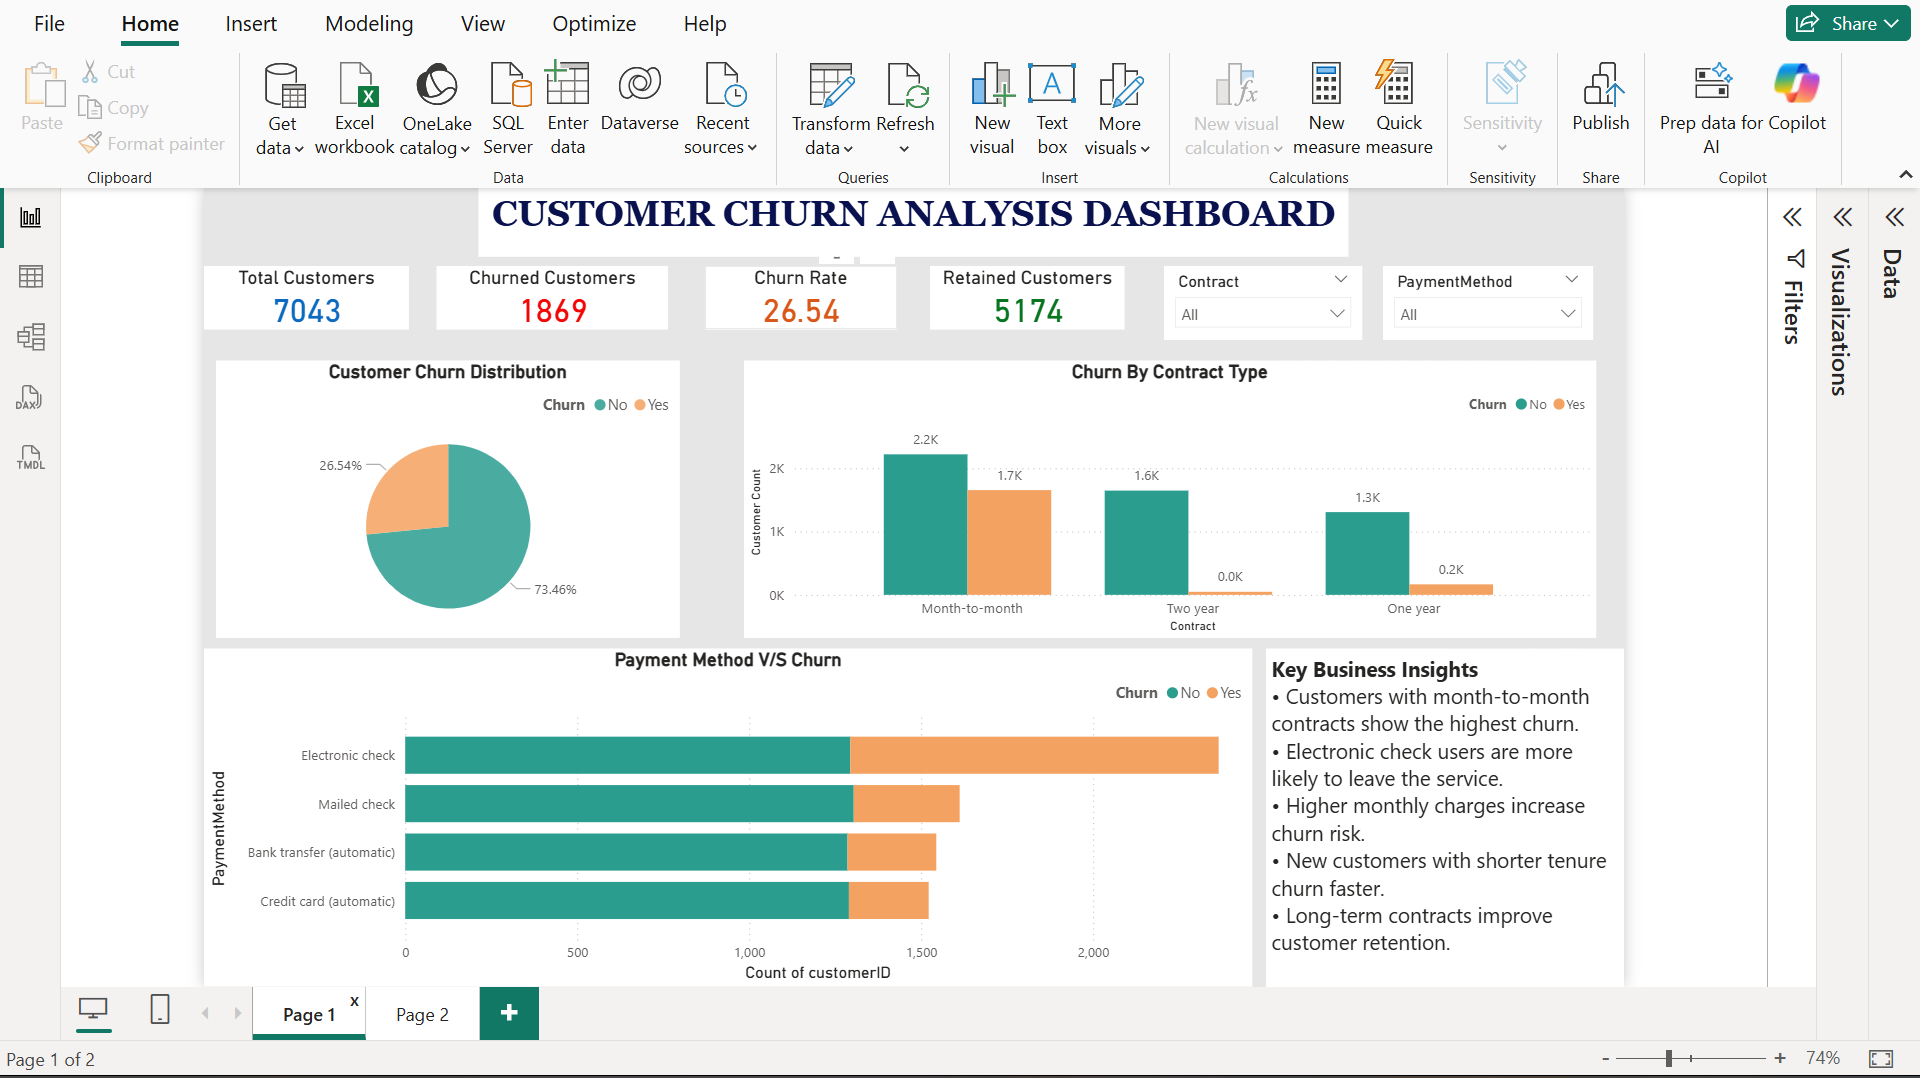

This screenshot's page, from the dashboard's own definition file:
{"tool":"powerbi","page":{"name":"Page 1","canvas":[1280,720],"ordinal":0},"visuals":[{"type":"card","title":"Total Customers","fields":{"Values":["cleaned_customer_churn.TOTAL CUST"]},"box":[0,69.7,184.7,57.5],"z":0},{"type":"card","title":"Churn Rate","fields":{"Values":["cleaned_customer_churn.Churn Rate"]},"box":[451.2,69.7,172.6,57.5],"z":1000},{"type":"card","title":"Churned Customers","fields":{"Values":["cleaned_customer_churn.Churned Customers"]},"box":[209,69.7,209,57.5],"z":2000},{"type":"pieChart","title":"Customer Churn Distribution","fields":{"Category":["cleaned_customer_churn.Churn"],"Y":["CountNonNull(cleaned_customer_churn.customerID)"]},"box":[5.4,155.4,417.7,250.1],"z":3000},{"type":"clusteredColumnChart","title":"Churn By Contract Type","fields":{"Category":["cleaned_customer_churn.Contract"],"Y":["cleaned_customer_churn.Customer Count"],"Series":["cleaned_customer_churn.Churn"]},"box":[486.1,156,767.7,249.8],"z":4000},{"type":"barChart","title":"Payment Method V/S Churn","fields":{"Category":["cleaned_customer_churn.PaymentMethod"],"Y":["CountNonNull(cleaned_customer_churn.customerID)"],"Series":["cleaned_customer_churn.Churn"]},"box":[0,414.9,944.9,304.4],"z":5000},{"type":"slicer","fields":{"Values":["cleaned_customer_churn.Contract"]},"box":[865.1,70.3,178.4,58.1],"z":9000},{"type":"slicer","fields":{"Values":["cleaned_customer_churn.PaymentMethod"]},"box":[1062.4,70.3,189.2,58.1],"z":11000},{"type":"textbox","box":[248,0,784,62.2],"z":12000},{"type":"card","title":"Retained Customers","fields":{"Values":["cleaned_customer_churn.Retained Customers"]},"box":[654.1,69.7,175.6,57.5],"z":13000},{"type":"textbox","box":[957,415,323.1,305.5],"z":14000}]}

Visuals, with their boxes on the page's 1280x720 design canvas (x1, y1, x2, y2). These are canvas units, not pixel positions in the 1920x1078 screenshot, which may show the page scaled, cropped or inside an application window:
"Total Customers" card: <box>0,70,185,127</box>
"Churn Rate" card: <box>451,70,624,127</box>
"Churned Customers" card: <box>209,70,418,127</box>
"Customer Churn Distribution" pieChart: <box>5,155,423,406</box>
"Churn By Contract Type" clusteredColumnChart: <box>486,156,1254,406</box>
"Payment Method V/S Churn" barChart: <box>0,415,945,719</box>
slicer - cleaned_customer_churn.Contract: <box>865,70,1044,128</box>
slicer - cleaned_customer_churn.PaymentMethod: <box>1062,70,1252,128</box>
textbox: <box>248,0,1032,62</box>
"Retained Customers" card: <box>654,70,830,127</box>
textbox: <box>957,415,1280,720</box>
